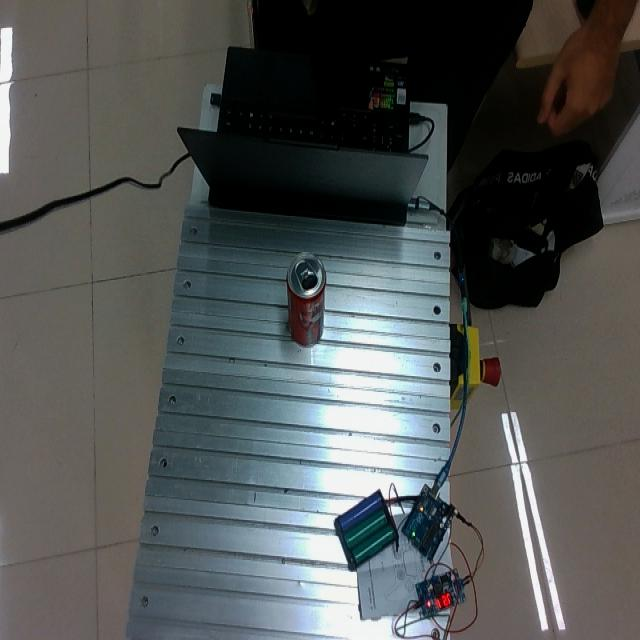coca: (287, 251, 328, 348)
